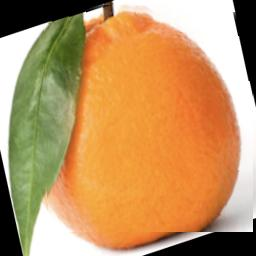Orange Fresh: (43, 1, 253, 232)
